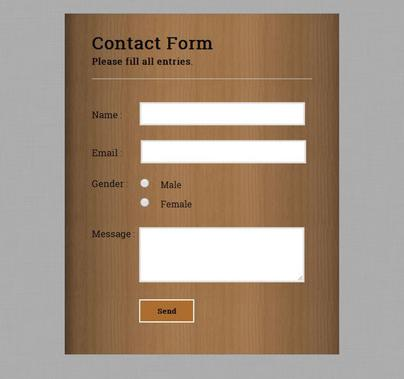button: (138, 298, 194, 323)
field: (136, 225, 306, 283), (136, 100, 308, 127), (137, 138, 307, 164)
field_with_label: (91, 99, 310, 129), (92, 137, 309, 166)
radio: (139, 177, 152, 189), (140, 196, 150, 209)
radio_with_label: (91, 223, 308, 285), (138, 194, 193, 211), (93, 175, 155, 190), (137, 175, 181, 190)
